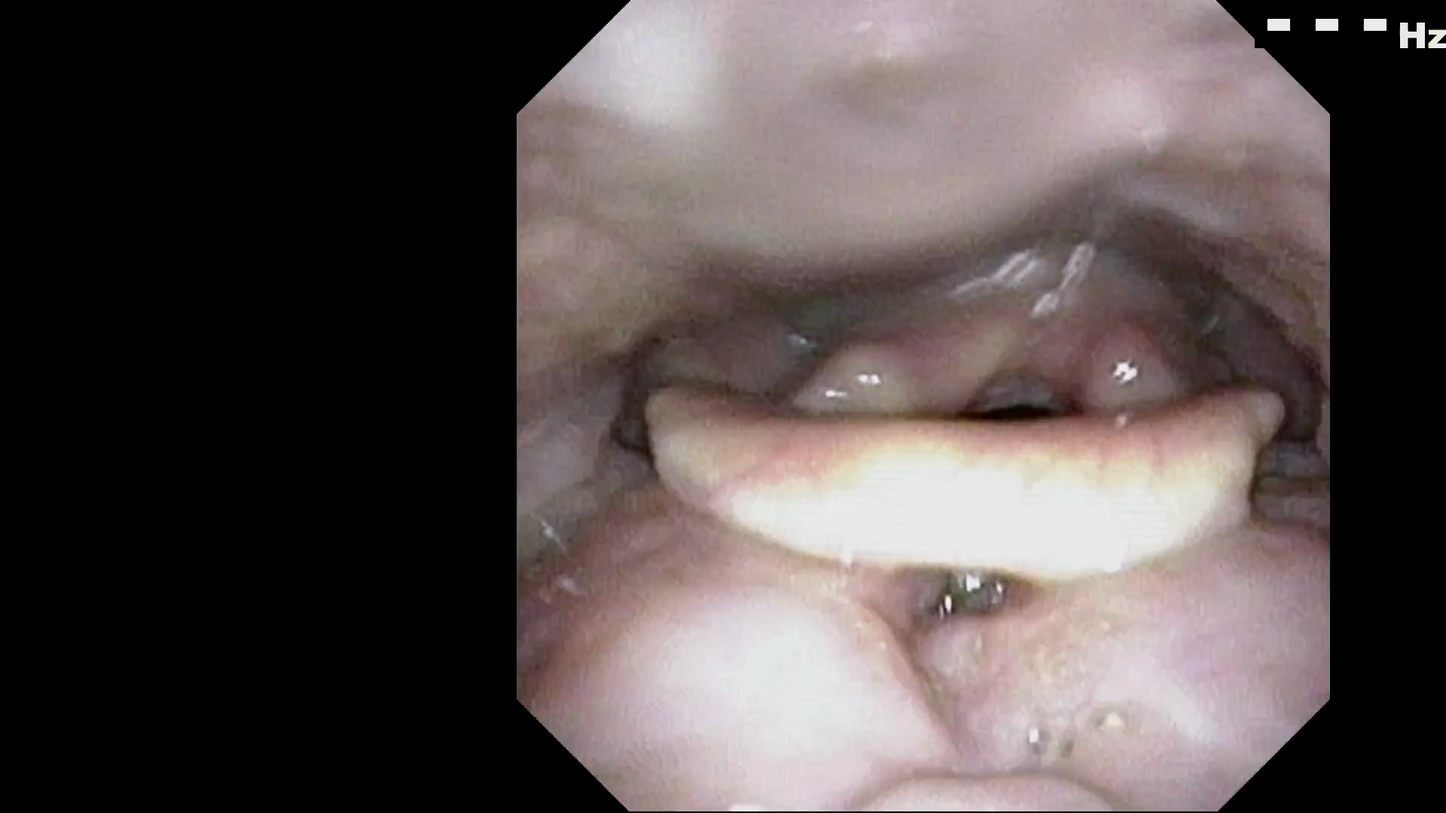epiglottis: (659, 421, 1298, 576)
trachea: (935, 386, 1089, 467)
